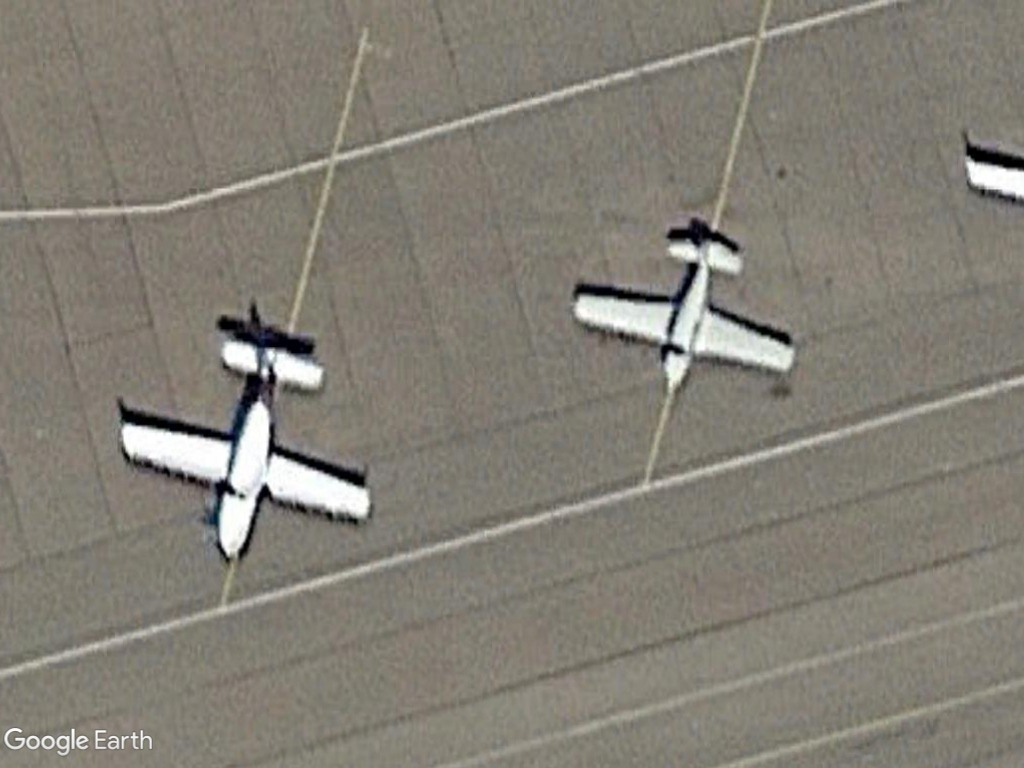trainer: (116, 333, 382, 571), (568, 225, 803, 396)
